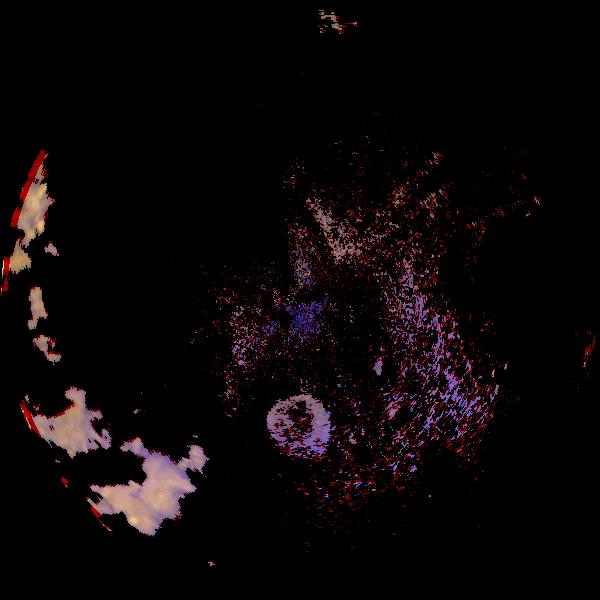roost: (262, 387, 337, 462)
